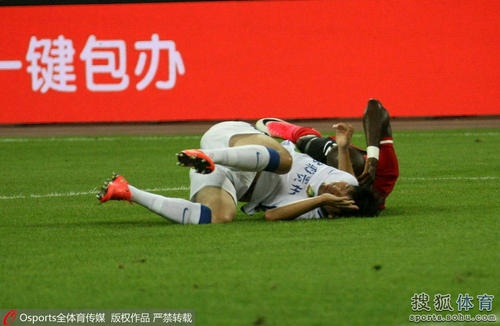falling: (248, 99, 403, 224)
